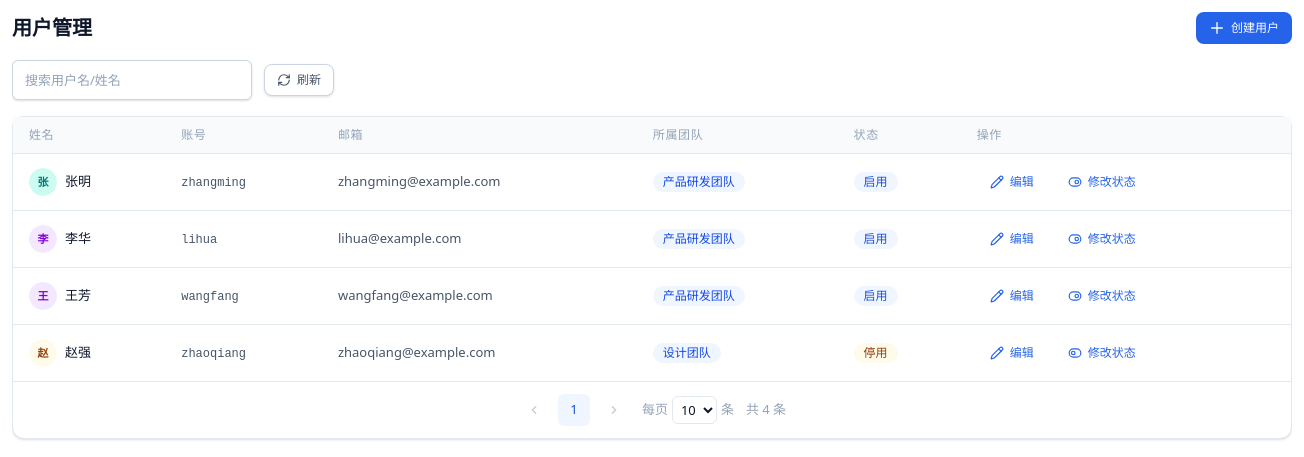
Test: UserManagementPage › filters users by search text (username/name)
The width and height of the screenshot is (1304, 457).
Expected: the text "张明" is shown, 65,172 -> 91,192
Type "zhang" into the field with placeholder "搜索用户名/姓名" at (132, 80), box 12,60 -> 252,100
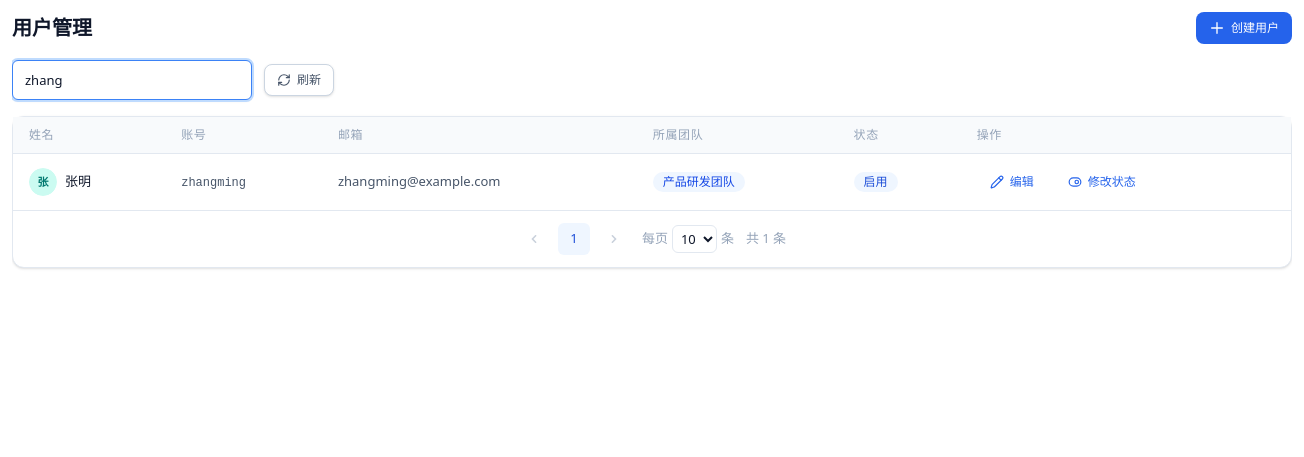
Expected: the text "张明" is shown, 65,172 -> 91,192
Expected: the text "李华" is gone
